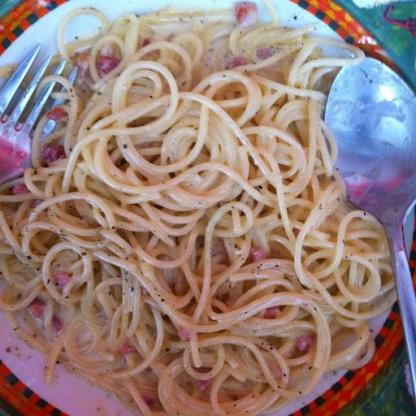Noodles: (0, 6, 406, 415)
